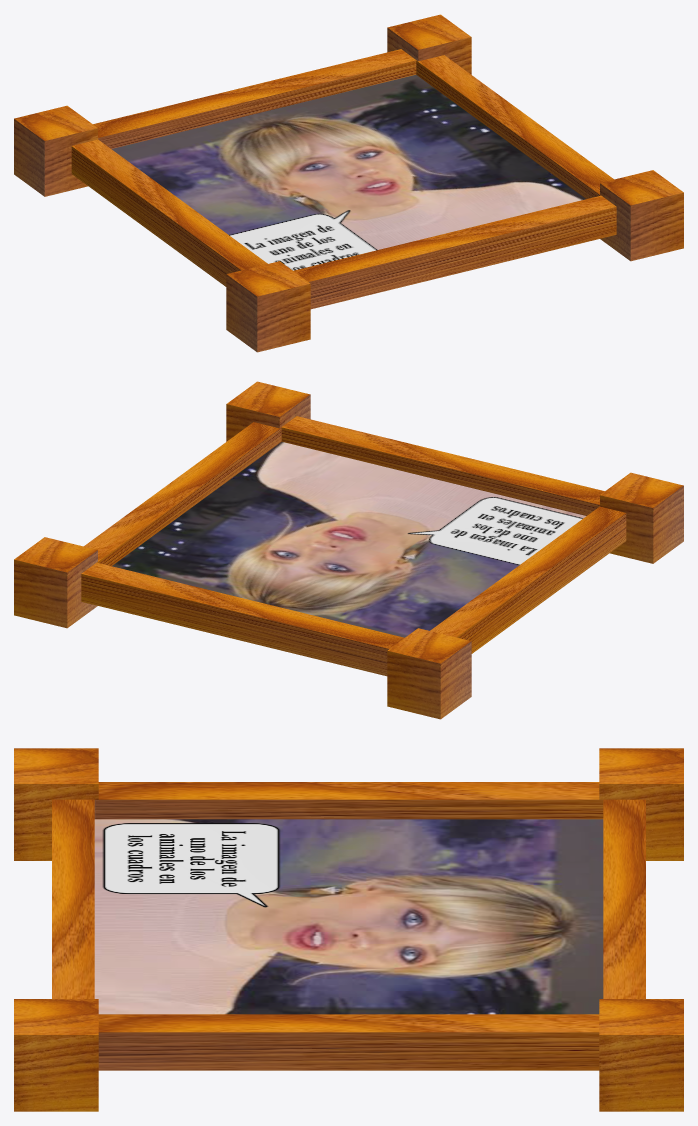
The model's file is Ins02.fbx.
3 renders of one model, top to bottom at view 1: azimuth 30°, elevation 25°; view 2: azimuth 150°, elevation 25°; view 3: azimuth 270°, elevation 25°, orthographic. The views are drawn at different scales.
Parts seen in each view (by area): view 1: Plano.001; view 2: Plano.001; view 3: Plano.001.
Boxes of the visible parts, bbox=[...] form: Plano.001: bbox=[14, 14, 683, 352]; Plano.001: bbox=[14, 381, 683, 719]; Plano.001: bbox=[14, 748, 683, 1111].
Size of the model in its own units: 80 by 10 by 79.
